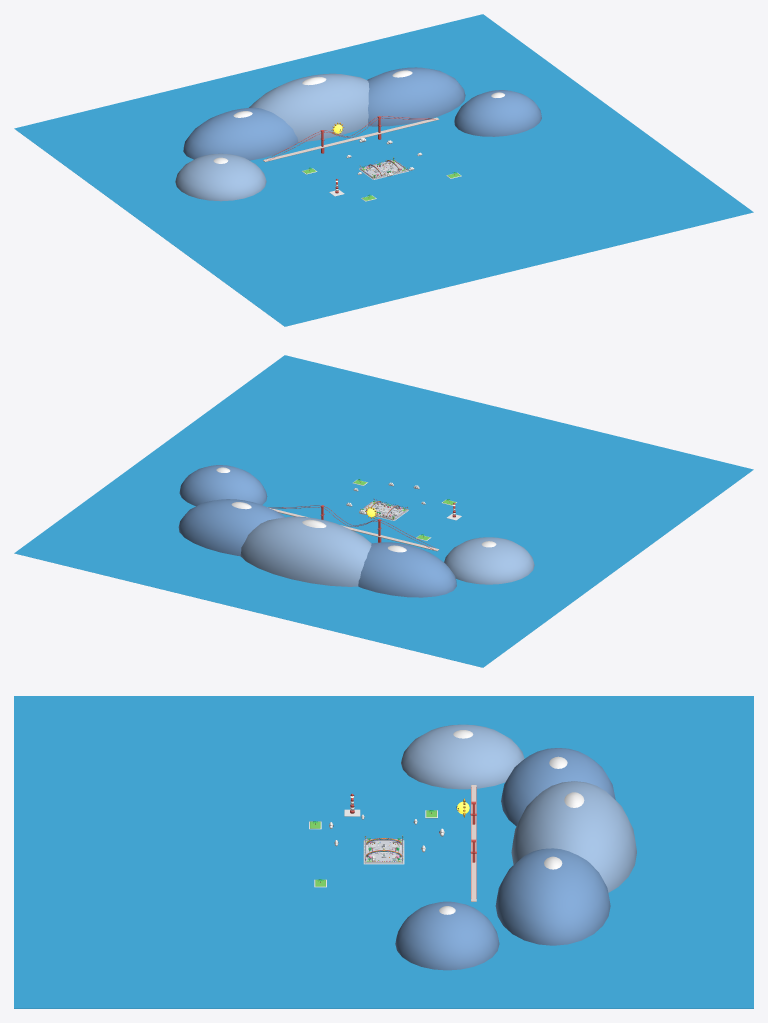
Rendered from parque.glb.
3 views of the same model, one above another, from view 1: azimuth 30°, elevation 25°; view 2: azimuth 150°, elevation 25°; view 3: azimuth 270°, elevation 25° (orthographic). The views are drawn at different scales.
Visible parts, largest first — view 1: Visual; view 2: Visual; view 3: Visual.
Part boxes in pixels (x1=…): Visual: x1=14, y1=14, x2=753, y2=326; Visual: x1=14, y1=355, x2=753, y2=667; Visual: x1=14, y1=696, x2=753, y2=1008.
Bounding box in the file's own units: 1400 × 246 × 1400.
